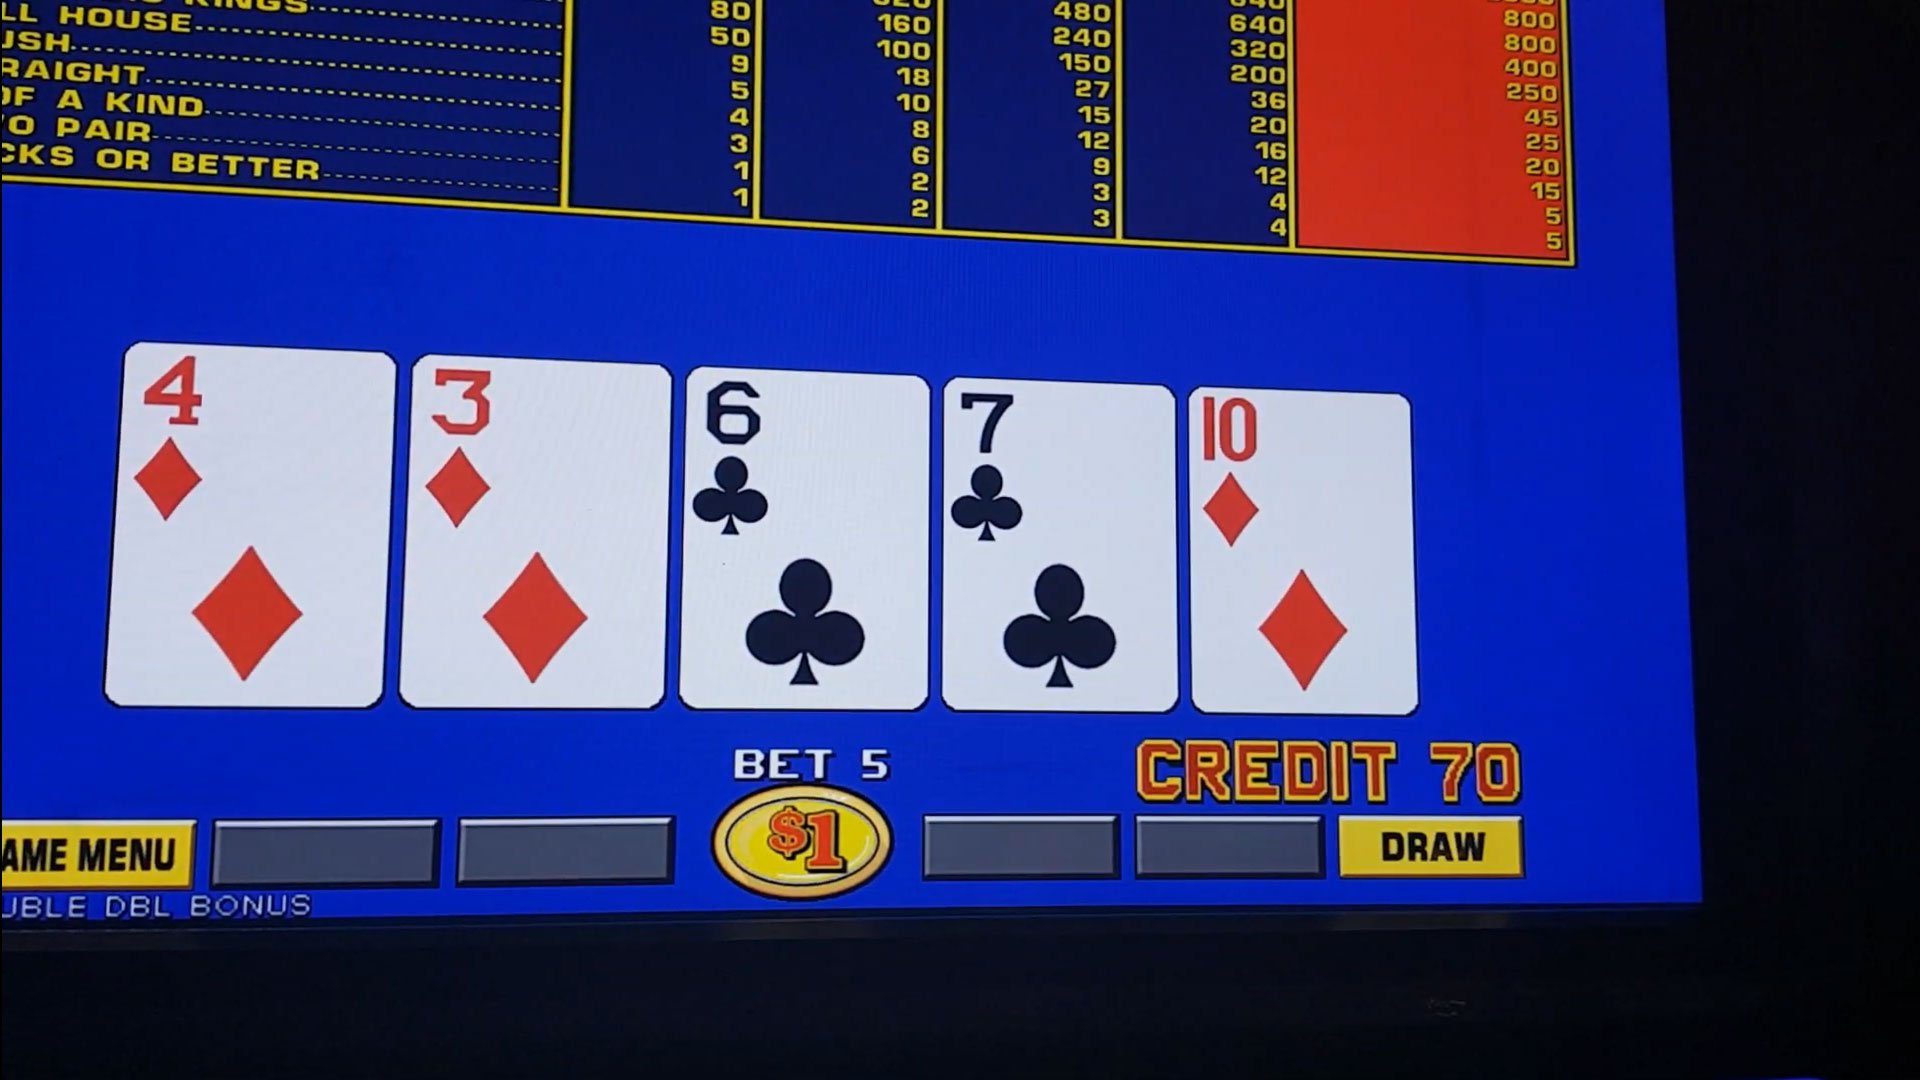C6: (696, 378, 924, 546)
C7: (949, 386, 1168, 550)
D3: (421, 367, 661, 542)
D4: (131, 353, 389, 531)
DT: (1188, 393, 1408, 566)
